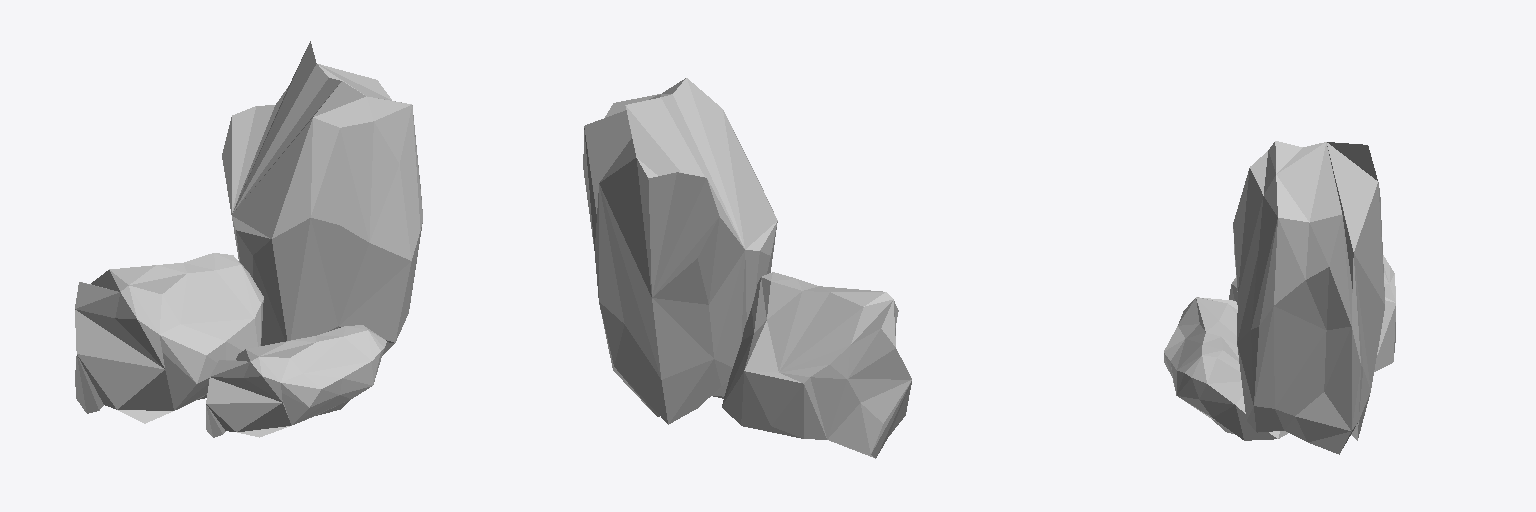
The model's file is stone.obj.
3 renders of one model, left to right at view 1: azimuth 30°, elevation 25°; view 2: azimuth 150°, elevation 25°; view 3: azimuth 270°, elevation 25°, orthographic.
Parts seen in each view (by area): view 1: Cube.001, Cube, Cube.002; view 2: Cube.001, Cube; view 3: Cube.001, Cube.002, Cube.
Boxes of the visible parts, box(x1,y1,x2,y2) form: Cube.001: box(222, 41, 422, 355); Cube: box(75, 253, 263, 423); Cube.002: box(206, 325, 386, 437); Cube.001: box(583, 78, 777, 424); Cube: box(722, 272, 911, 458); Cube.001: box(1233, 141, 1384, 454); Cube.002: box(1164, 297, 1287, 440); Cube: box(1229, 255, 1395, 371).
Bounding box in the file's own units: 1.09 × 1.02 × 0.676.